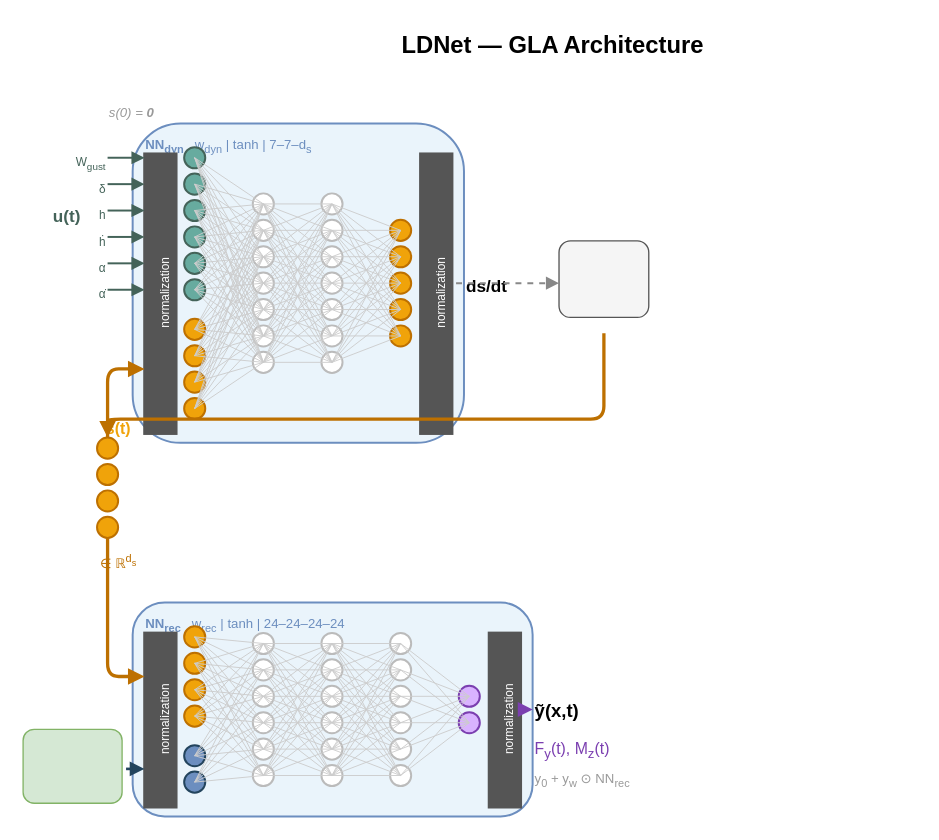
Image size: 939x840. Some labels were removed from this diagram. The centre of each missing label's shape, as x and y in pixels:
x ∈ Ω ⊂ ℝ d: (72,765)
∫dt: (603,278)
